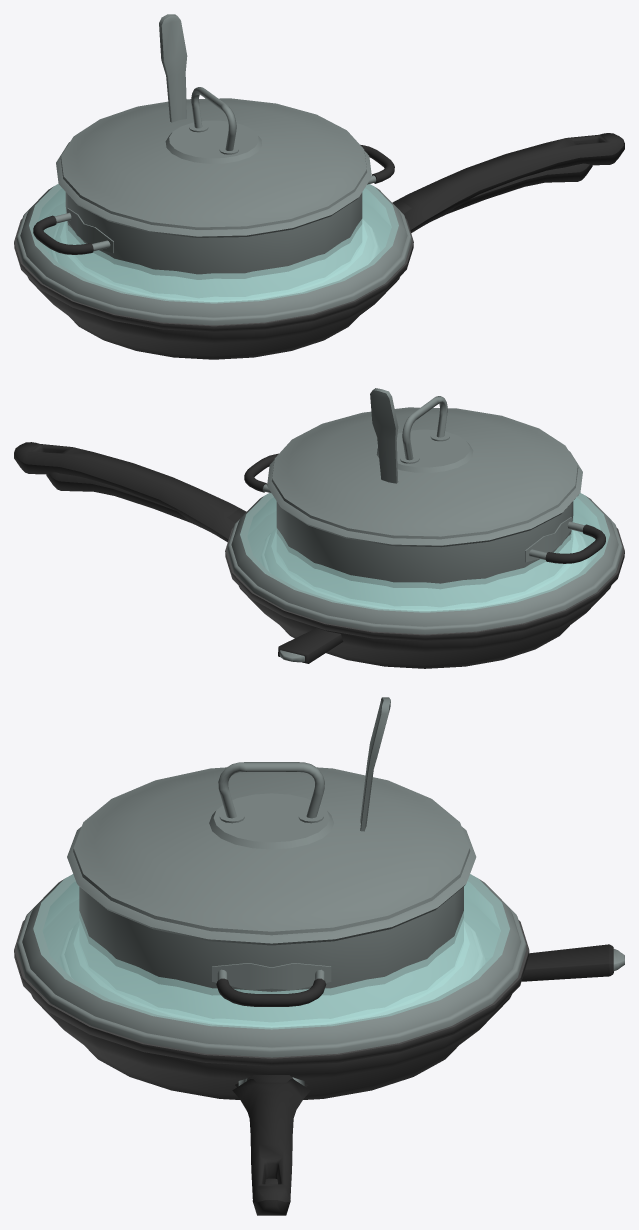
File: Kitchenware.fbx
3 views of the same model, one above another, from view 1: azimuth 30°, elevation 25°; view 2: azimuth 150°, elevation 25°; view 3: azimuth 270°, elevation 25° (orthographic). The views are drawn at different scales.
Visible parts, largest first — view 1: Saucepan01Cap, Pan01Cap, Saucepan01Body, Pan01Body, KitchenSpoon01, Pan02Cap, Pan02Body; view 2: Saucepan01Cap, Pan01Cap, Saucepan01Body, Pan01Body, Pan02Cap, KitchenSpoon01, Pan02Body, Paddle01; view 3: Saucepan01Cap, Pan01Cap, Saucepan01Body, Pan01Body, Pan02Cap, Paddle01, KitchenSpoon01.
Boxes of the visible parts, left/top/right/bottom form: Saucepan01Cap: left=60, top=87, right=366, bottom=229; Pan01Cap: left=16, top=184, right=411, bottom=325; Saucepan01Body: left=33, top=142, right=394, bottom=297; Pan01Body: left=14, top=133, right=624, bottom=359; KitchenSpoon01: left=159, top=14, right=187, bottom=122; Pan02Cap: left=50, top=220, right=377, bottom=301; Pan02Body: left=48, top=163, right=592, bottom=254; Saucepan01Cap: left=272, top=396, right=578, bottom=539; Pan01Cap: left=227, top=493, right=622, bottom=634; Saucepan01Body: left=244, top=451, right=605, bottom=606; Pan01Body: left=14, top=442, right=624, bottom=668; Pan02Cap: left=261, top=529, right=588, bottom=610; KitchenSpoon01: left=370, top=388, right=398, bottom=483; Pan02Body: left=46, top=472, right=590, bottom=563; Paddle01: left=278, top=628, right=343, bottom=663; Saucepan01Cap: left=73, top=762, right=470, bottom=935; Pan01Cap: left=17, top=874, right=526, bottom=1057; Saucepan01Body: left=67, top=826, right=476, bottom=1021; Pan01Body: left=14, top=899, right=529, bottom=1215; Pan02Cap: left=60, top=922, right=482, bottom=1027; Paddle01: left=485, top=944, right=624, bottom=981; KitchenSpoon01: left=360, top=697, right=390, bottom=831.
Bounding box in the file's own units: 54.66 × 22.08 × 38.56.
